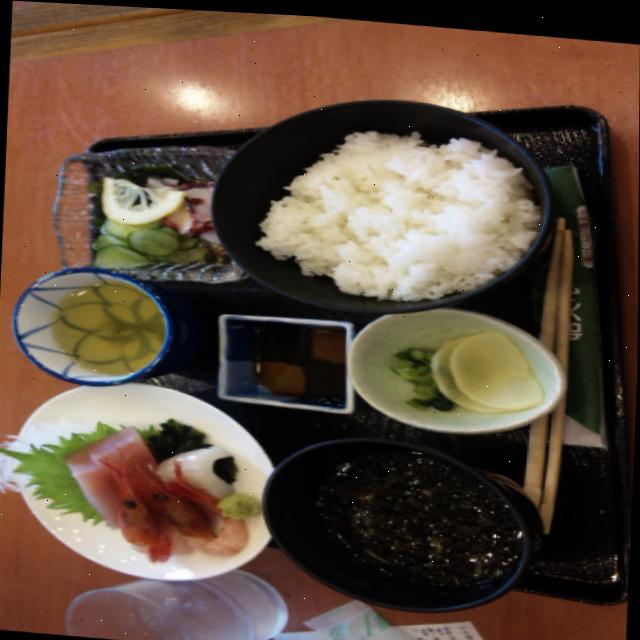米饭主食: (190, 87, 580, 320)
